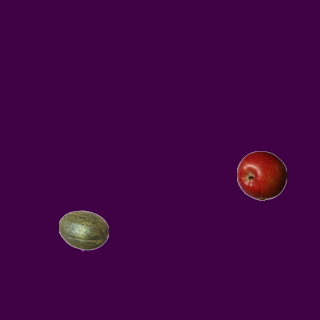Apple Braeburn: (236, 150, 286, 200)
Melon Piel de Sapo: (58, 205, 108, 255)
